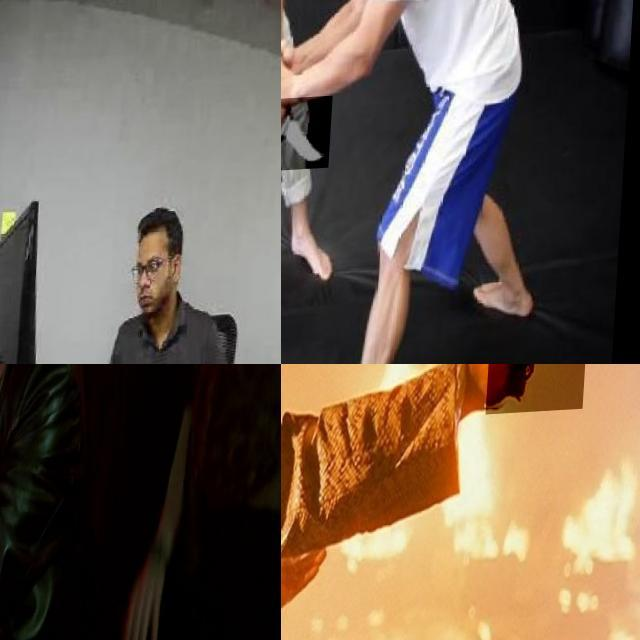-: (281, 100, 337, 175)
gun-knife-thesis - v11 Yolov5 augmented: (0, 513, 62, 640), (489, 364, 592, 439)
